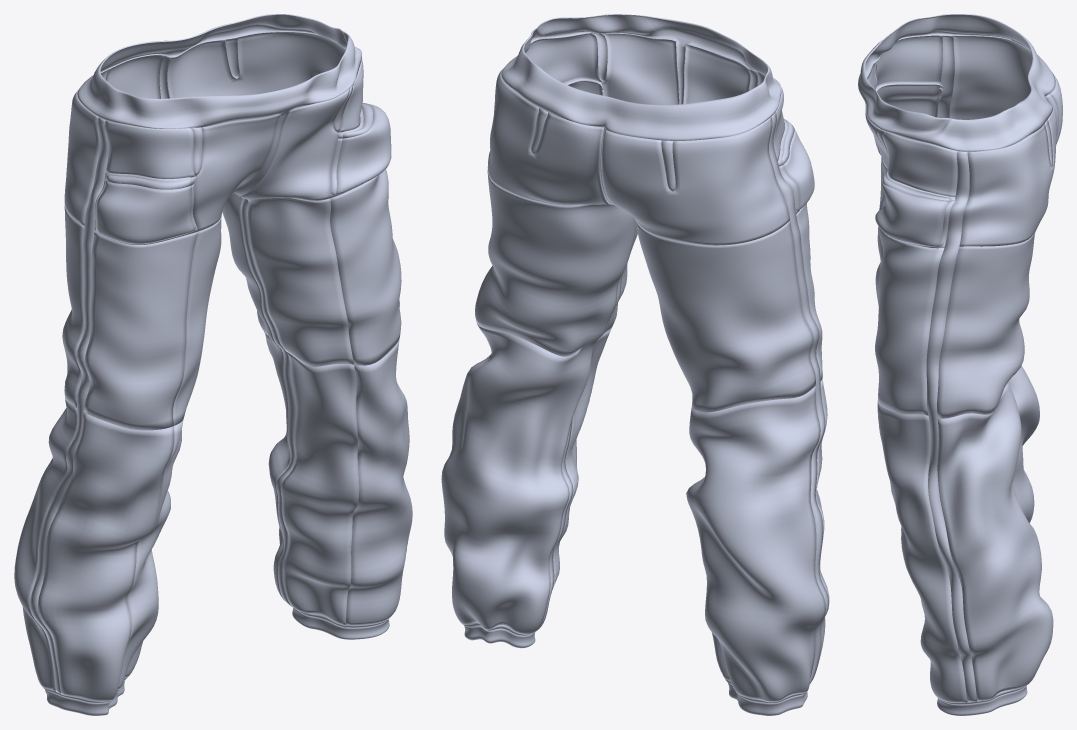
The model's file is Pants.fbx.
The picture shows the model from 3 angles, left to right: view 1: azimuth 30°, elevation 25°; view 2: azimuth 150°, elevation 25°; view 3: azimuth 270°, elevation 25°; orthographic projection. The views are drawn at different scales.
Visible parts, largest first — view 1: PantsMid; view 2: PantsMid; view 3: PantsMid.
Part boxes in pixels (x1=…): PantsMid: x1=14, y1=14, x2=412, y2=715; PantsMid: x1=441, y1=14, x2=829, y2=715; PantsMid: x1=858, y1=14, x2=1062, y2=715.
Size of the model in its own units: 47.71 by 74.85 by 23.78.
